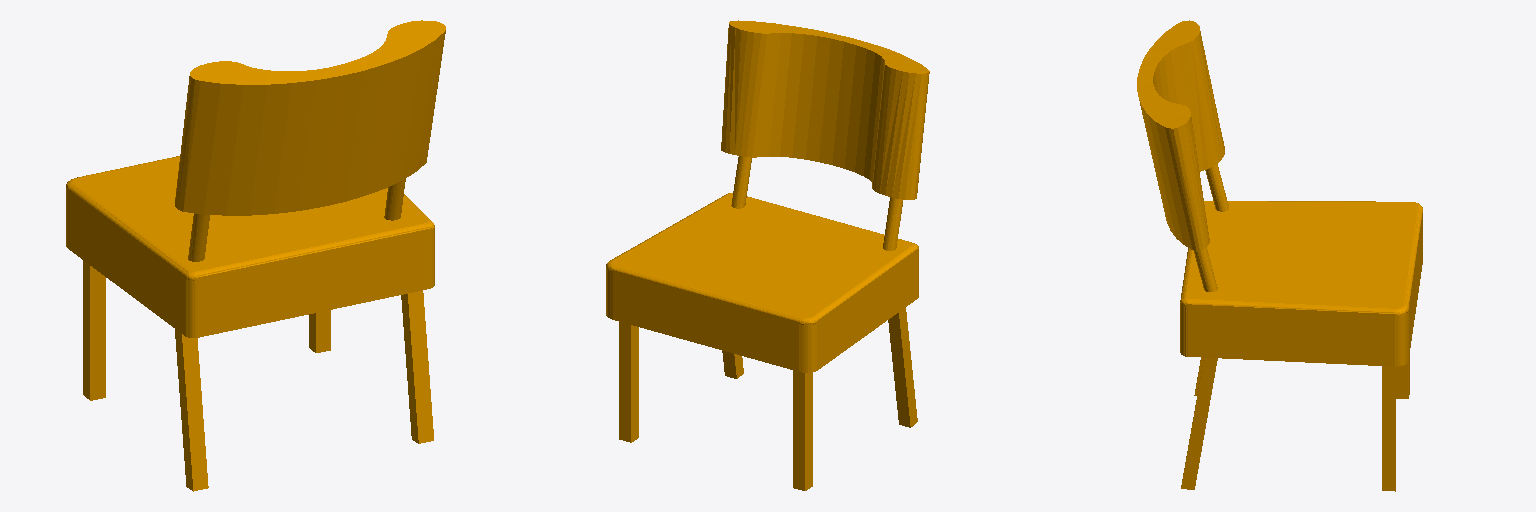
The robot description file, URDF, robot "03001627_f0f9048f45eed1ab3a8888e78d004b3_object":
<robot name="03001627_f0f9048f45eed1ab3a8888e78d004b3_object">
	<link name="_name">
		<visual>
			<origin xyz="-1.6066672053093287 1.4972566323904675 0.8829114109752966" rpy="0.0 0.0 0.0" />
			<geometry>
				<mesh filename="03001627_f0f9048f45eed1ab3a8888e78d004b3_object.obj" />
			</geometry>
		</visual>
		<collision>
			<origin rpy="0.0 0.0 0.0" xyz="-1.6066672053093287 1.4972566323904675 0.8829114109752966" />
			<geometry>
				<mesh filename="03001627_f0f9048f45eed1ab3a8888e78d004b3_object_vhacd.obj" />
			</geometry>
		</collision>
		<inertial>
			<origin rpy="0 0 0" xyz="0 0 0" />
			<mass value="1.0" />
			<inertia ixx="0.001" ixy="0.0" ixz="0.0" iyy="0.001" iyz="0.0" izz="0.001" />
		</inertial>
	</link>
</robot>

--- Render facts (derived) ---
Views: 3 orthographic renders of the robot side by side, from view 1: azimuth 30°, elevation 25°; view 2: azimuth 150°, elevation 25°; view 3: azimuth 270°, elevation 25°.
Robot: 03001627_f0f9048f45eed1ab3a8888e78d004b3_object — 1 links, 0 joints (none); root link _name; default pose: all joints at 0.
Visible links, largest first — view 1: _name; view 2: _name; view 3: _name.
Link boxes in pixels (left/top/right/bottom): _name: left=66, top=20, right=445, bottom=491; _name: left=606, top=20, right=929, bottom=490; _name: left=1137, top=20, right=1422, bottom=491.
Size in the robot's own frame: 0.5268 by 0.5604 by 0.7969 metres.
1 mesh visuals loaded from 1 distinct referenced files (1 OBJ).
